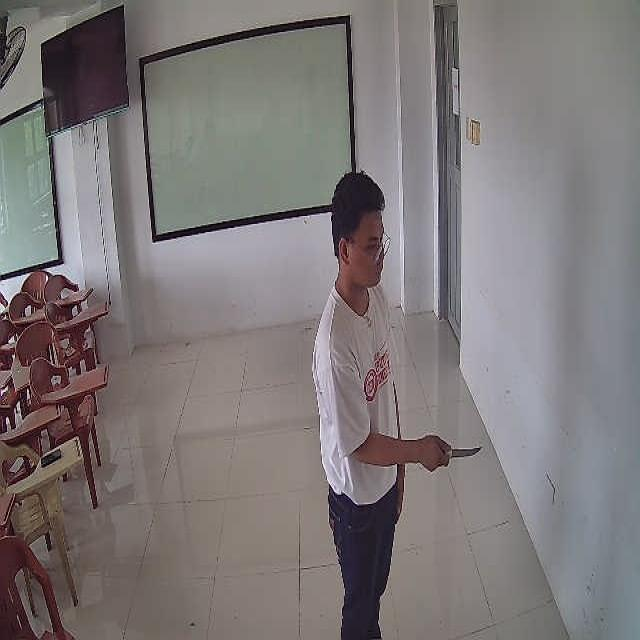knife: (445, 445, 483, 459)
